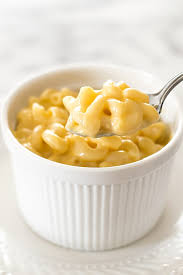macncheese: (21, 86, 165, 158)
